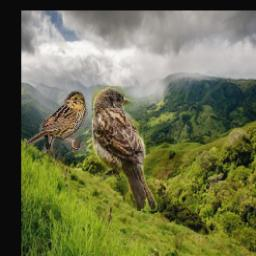Sparrow: (92, 87, 157, 212), (24, 90, 87, 153)
